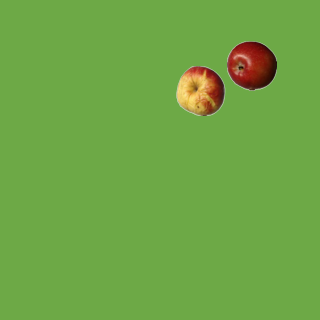Apple Braeburn: (226, 40, 276, 90)
Apple Red Yellow 1: (175, 65, 225, 115)
